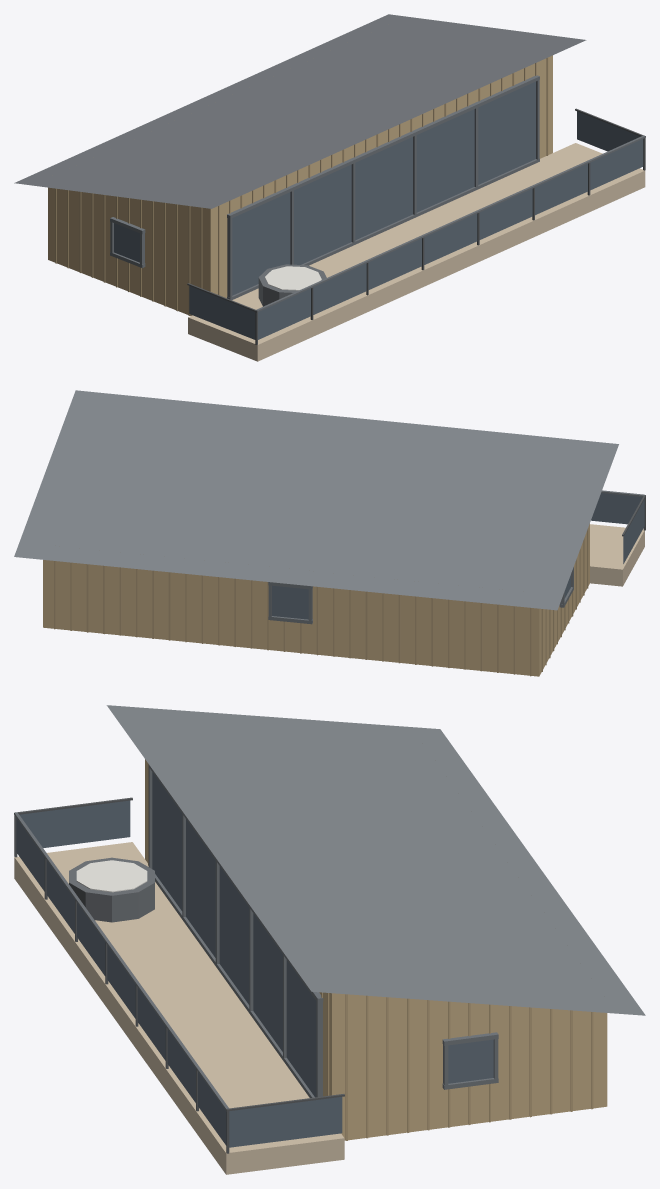
The picture shows the model from 3 angles, top to bottom: view 1: azimuth 30°, elevation 25°; view 2: azimuth 150°, elevation 25°; view 3: azimuth 270°, elevation 25°; orthographic projection. The views are drawn at different scales.
Visible parts, largest first — view 1: slate, door_wood, larch, slate_dk, window_glass_013, window_glass_012, window_glass_014, window_glass_011, window_glass_010, door_wood_p, window_glass_008, window_glass_002 (+11 smaller); view 2: slate, door_wood, door_wood_p, larch, window_glass_001, window_glass_016, slate_dk, window_glass_008; view 3: slate, door_wood, larch, slate_dk, door_wood_p, window_glass_009, window_glass_008, window_glass_012, window_glass_014, window_glass_010, window_glass_011, window_glass_013 (+11 smaller).
Boxes of the visible parts, x1,y1,x2,y2 form: slate: [14, 14, 586, 208]; door_wood: [48, 55, 552, 315]; larch: [188, 143, 645, 361]; slate_dk: [110, 75, 645, 311]; window_glass_013: [416, 109, 474, 212]; window_glass_012: [355, 137, 412, 240]; window_glass_014: [478, 81, 535, 184]; window_glass_011: [294, 164, 351, 264]; window_glass_010: [232, 192, 290, 295]; door_wood_p: [55, 57, 548, 315]; window_glass_008: [189, 286, 255, 339]; window_glass_002: [313, 263, 366, 314]; slate: [14, 390, 618, 610]; door_wood: [43, 523, 589, 676]; door_wood_p: [54, 528, 588, 676]; larch: [590, 524, 644, 586]; window_glass_001: [591, 493, 642, 524]; window_glass_016: [272, 585, 308, 619]; slate_dk: [268, 490, 644, 624]; window_glass_008: [623, 499, 644, 563]; slate: [106, 705, 645, 1015]; door_wood: [145, 759, 607, 1140]; larch: [14, 842, 344, 1174]; slate_dk: [14, 764, 498, 1110]; door_wood_p: [148, 763, 593, 1140]; window_glass_009: [229, 1097, 342, 1147]; window_glass_008: [19, 800, 130, 847]; window_glass_012: [219, 866, 249, 1004]; window_glass_014: [286, 960, 316, 1097]; window_glass_010: [152, 772, 182, 910]; window_glass_011: [186, 819, 215, 957]; window_glass_013: [253, 913, 282, 1051].
Bounding box in the file's own units: 17.24 × 3.88 × 13.29.
